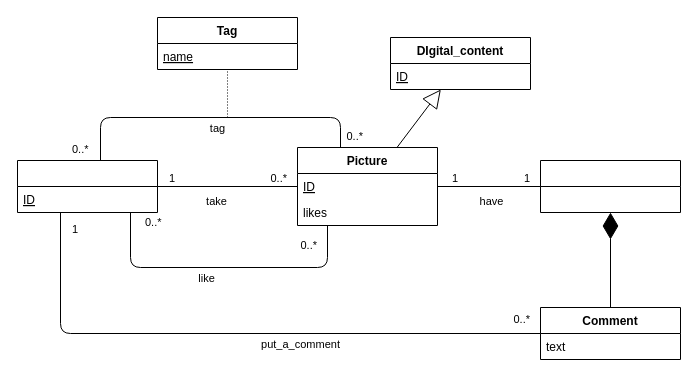
Some shapes in this 698 by 380 pixel diagram are drawn without their labels. Here are the shapes that lost their labels. From the top down, the box of each, then its label:
(16, 160, 158, 212): User
(540, 160, 680, 212): Discussion
